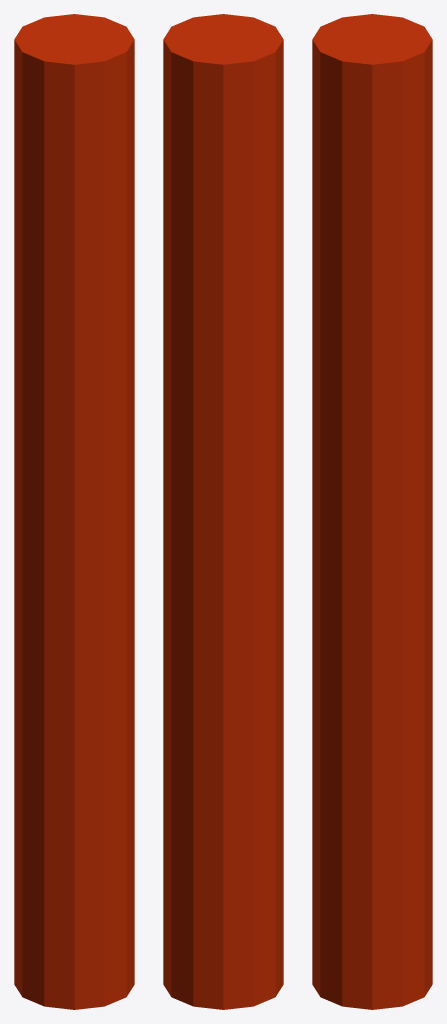
The model's file is pipe - straight.obj.
The picture shows the model from 3 angles, left to right: view 1: azimuth 30°, elevation 25°; view 2: azimuth 150°, elevation 25°; view 3: azimuth 330°, elevation 25°; orthographic projection.
Visible parts, largest first — view 1: pCylinder1; view 2: pCylinder1; view 3: pCylinder1.
Part boxes in pixels (x1,y1,x2,y2): pCylinder1: [14, 14, 134, 1009]; pCylinder1: [163, 14, 283, 1009]; pCylinder1: [312, 14, 432, 1009].
Size of the model in its own units: 0.4329 by 3.75 by 0.4329.
